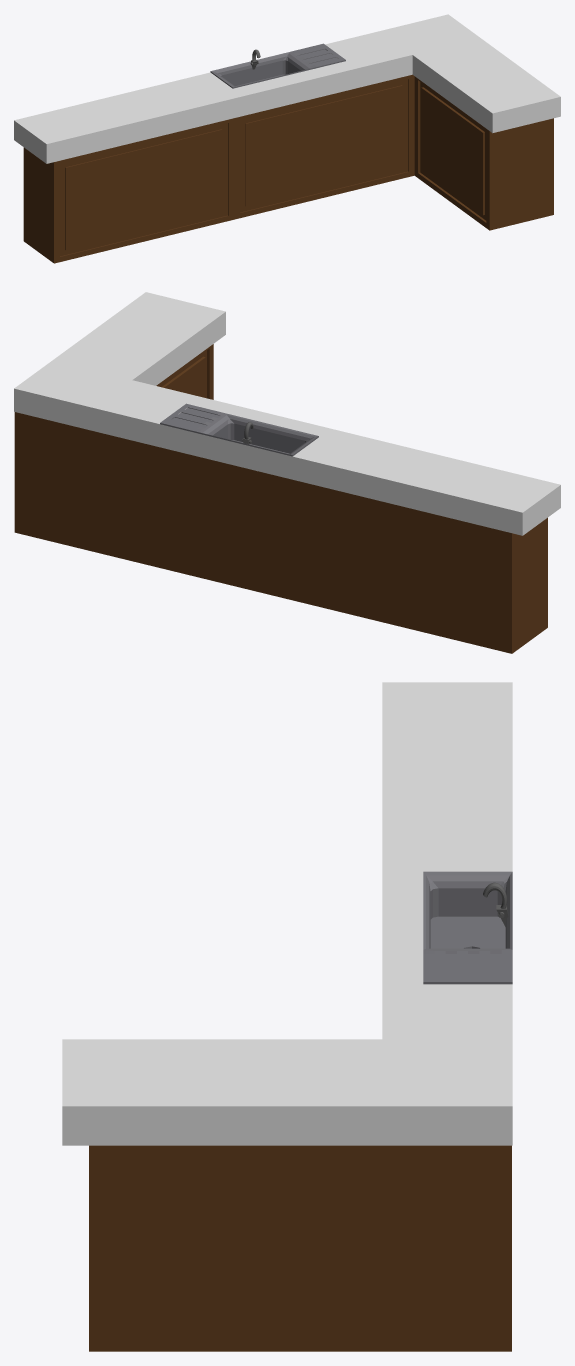
File: tezgahREALGERCEKSONFINAL.fbx
3 views of the same model, one above another, from view 1: azimuth 30°, elevation 25°; view 2: azimuth 150°, elevation 25°; view 3: azimuth 270°, elevation 25° (orthographic). The views are drawn at different scales.
Parts seen in each view (by area): view 1: tezgahAlt, tezgahUst, lavabo; view 2: tezgahAlt, tezgahUst, lavabo; view 3: tezgahAlt, tezgahUst, lavabo.
Boxes of the visible parts, box(x1,y1,x2,y2) form: tezgahAlt: box(23, 74, 553, 263); tezgahUst: box(14, 14, 560, 163); lavabo: box(210, 43, 345, 88); tezgahAlt: box(14, 344, 547, 653); tezgahUst: box(14, 292, 560, 535); lavabo: box(160, 403, 318, 456); tezgahAlt: box(89, 1145, 511, 1351); tezgahUst: box(62, 682, 512, 1145); lavabo: box(423, 871, 512, 984).
Bounding box in the file's own units: 741 × 226 × 333.
